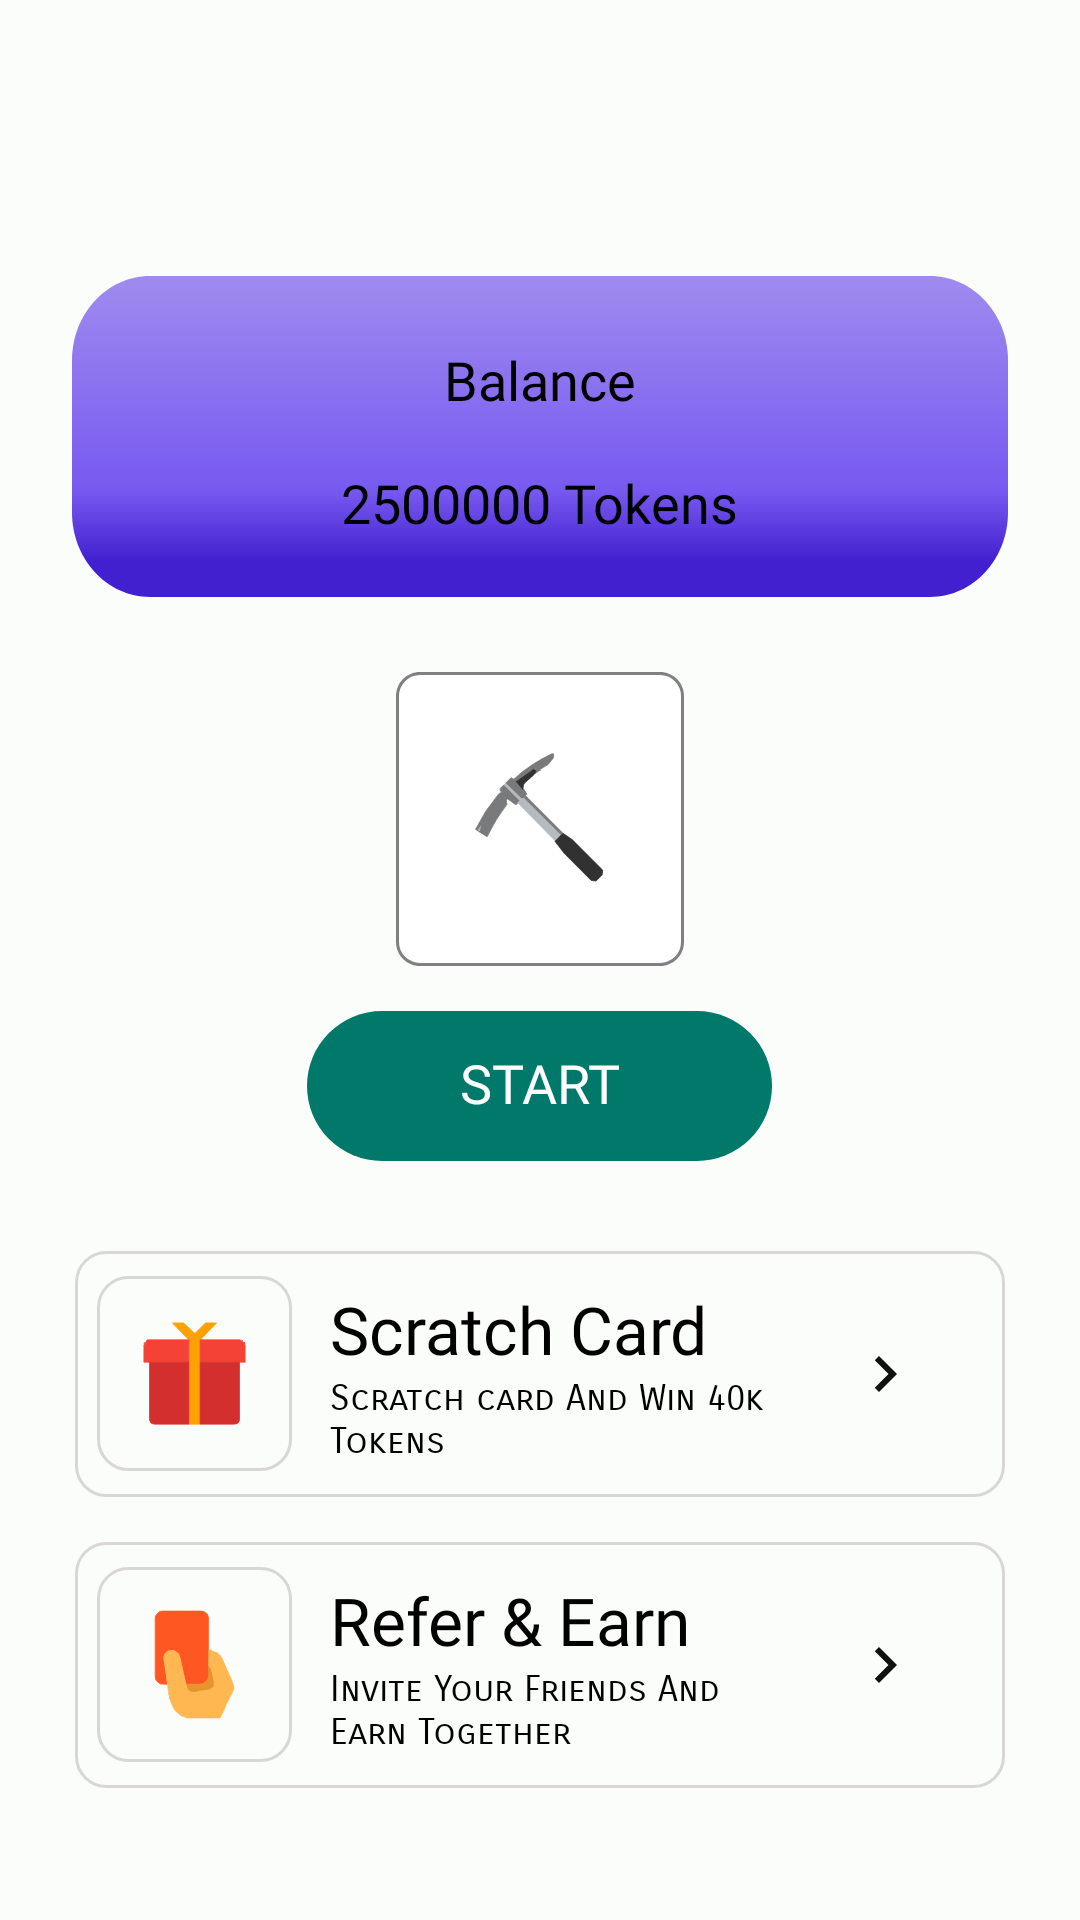

Locate icon controls on the screen. Image size 1080*1920, boxes as (x1, y1, x2, y2).
card giftcard: (143, 1322, 246, 1425)
navigate next: (875, 1356, 897, 1392), (875, 1647, 897, 1683)
